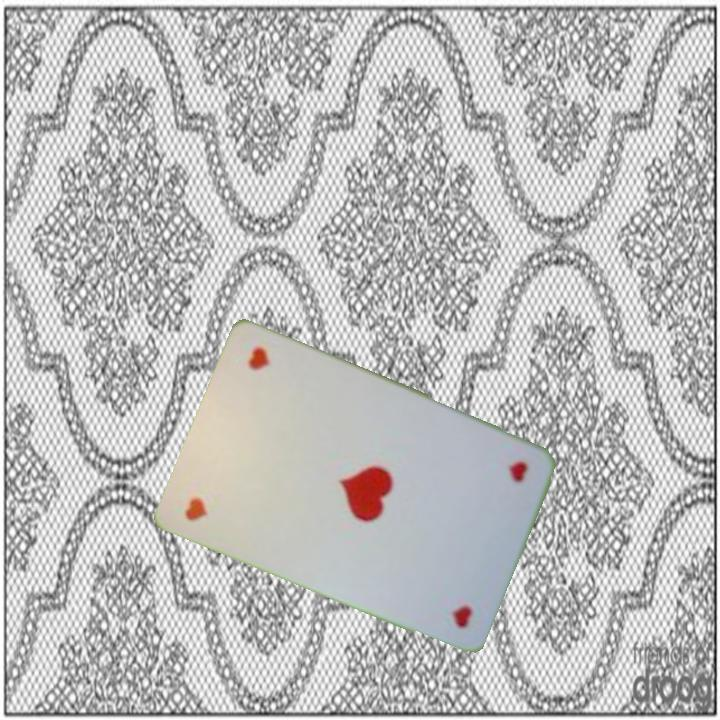h_a.png: (426, 427, 542, 551), (172, 424, 288, 548)
